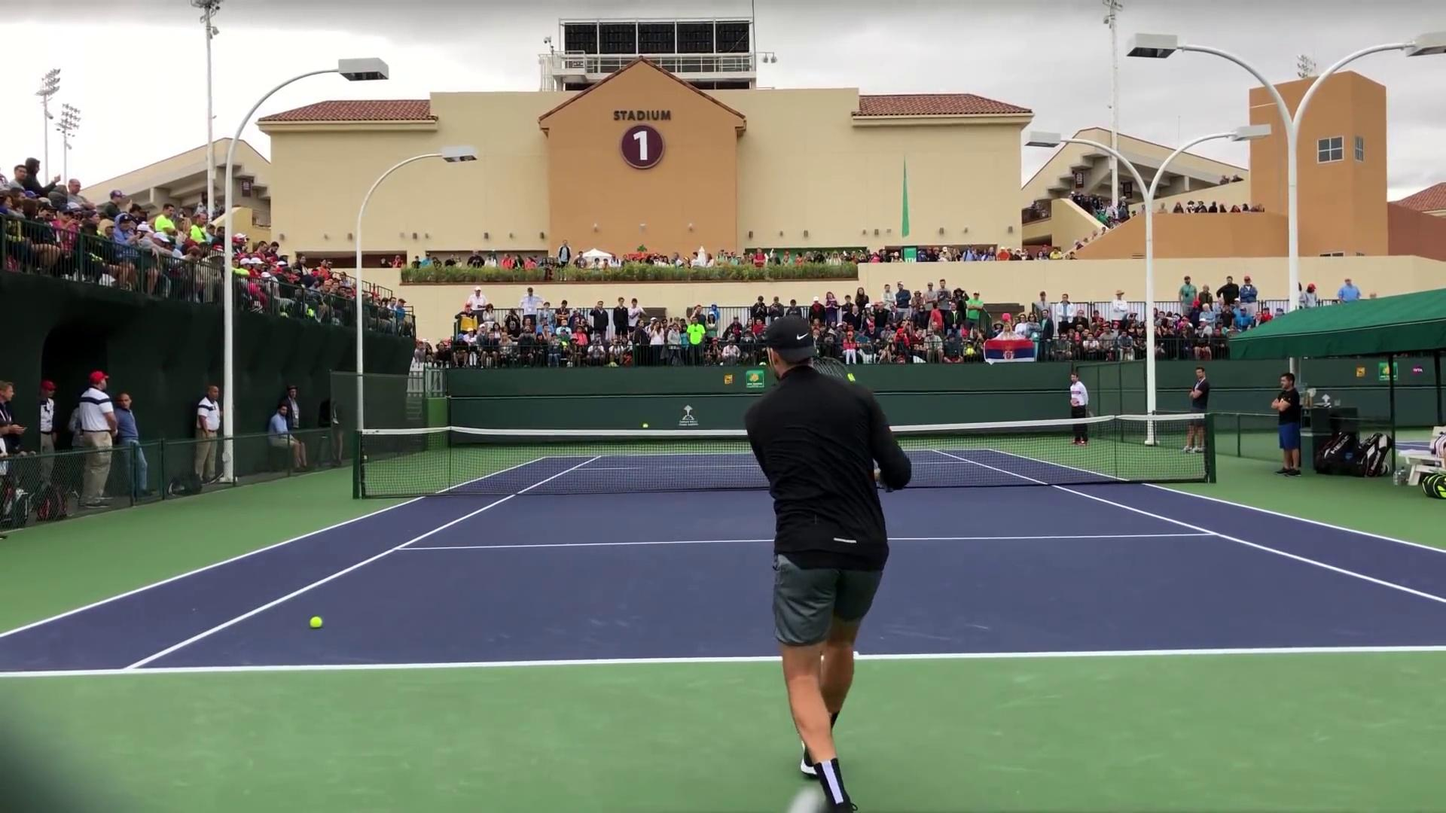ball: (310, 617, 323, 629), (640, 419, 650, 431)
